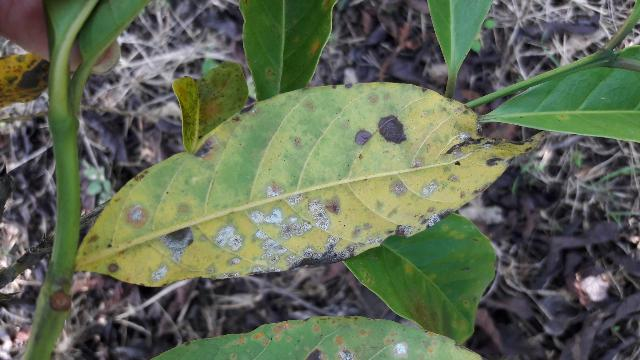rust_level_3: (75, 81, 547, 279)
